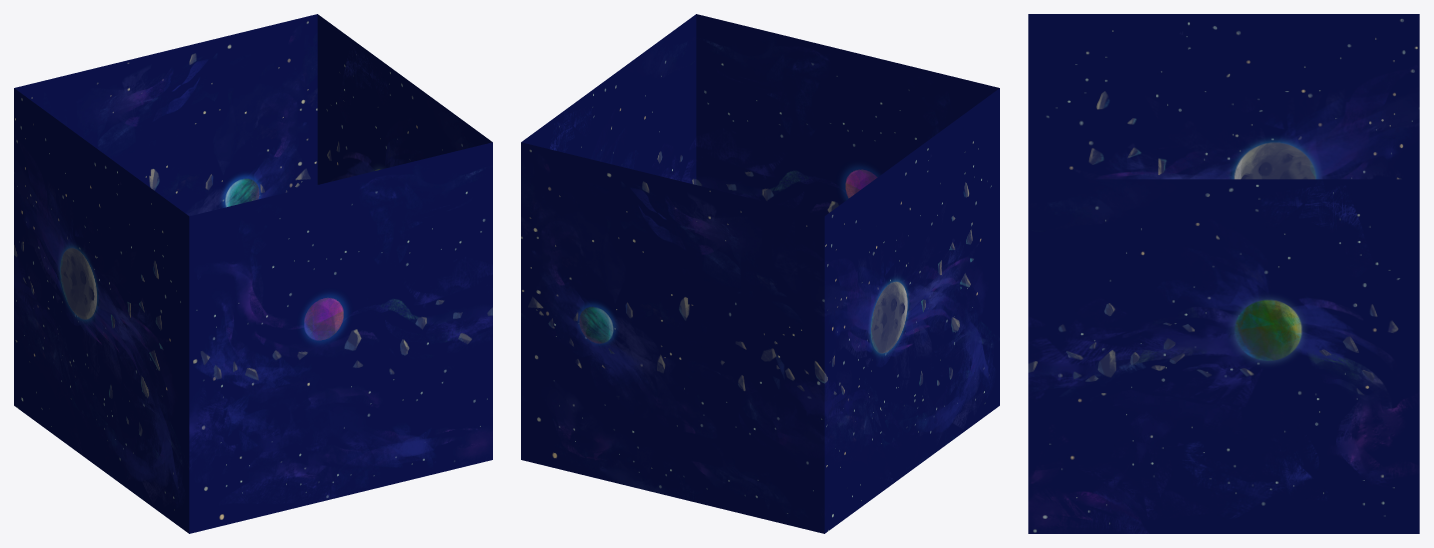
The model's file is skybox.fbx.
The picture shows the model from 3 angles, left to right: view 1: azimuth 30°, elevation 25°; view 2: azimuth 150°, elevation 25°; view 3: azimuth 270°, elevation 25°; orthographic projection. The views are drawn at different scales.
Parts seen in each view (by area): view 1: space_skybox; view 2: space_skybox; view 3: space_skybox.
Boxes of the visible parts, bbox=[...] form: space_skybox: bbox=[14, 14, 492, 533]; space_skybox: bbox=[521, 14, 999, 533]; space_skybox: bbox=[1028, 14, 1419, 533].
Size of the model in its own units: 2.14 by 2.14 by 2.14.
